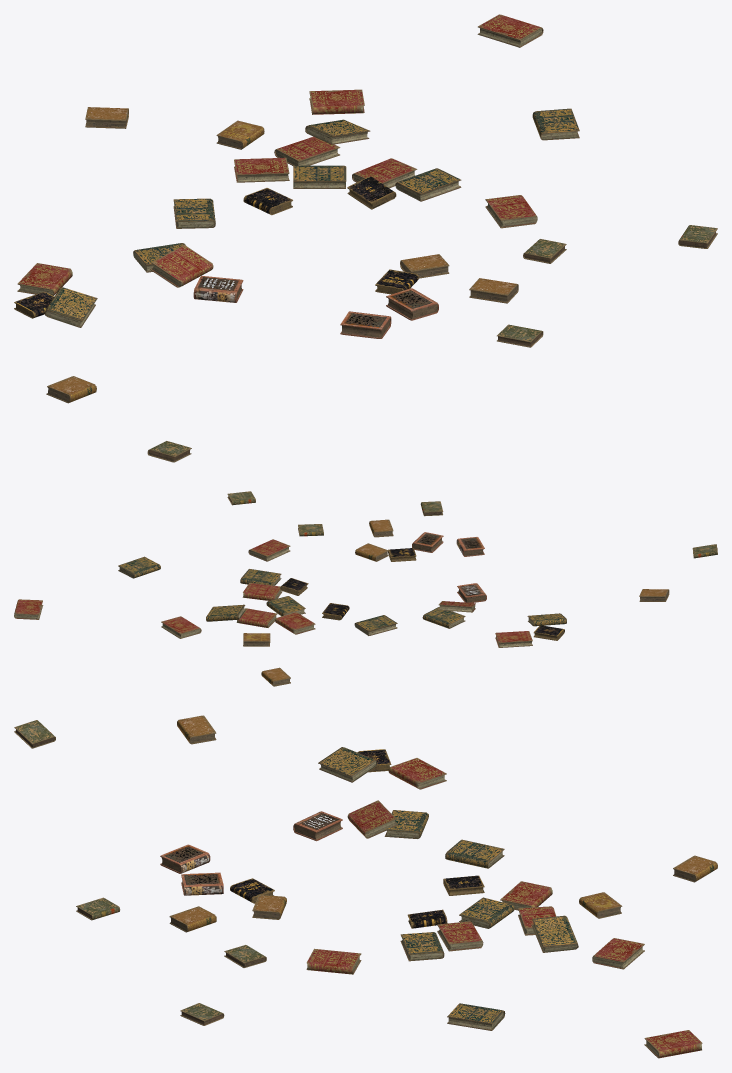
File: sm39_118_bookfloor01a.fbx
3 views of the same model, one above another, from view 1: azimuth 30°, elevation 25°; view 2: azimuth 150°, elevation 25°; view 3: azimuth 270°, elevation 25° (orthographic). The views are drawn at different scales.
Visible parts, largest first — view 1: LOD_1_Group_0_Sub_1__sm36_001_BookSet01A_A_Mat; view 2: LOD_1_Group_0_Sub_1__sm36_001_BookSet01A_A_Mat; view 3: LOD_1_Group_0_Sub_1__sm36_001_BookSet01A_A_Mat.
Boxes of the visible parts, bbox=[...] form: LOD_1_Group_0_Sub_1__sm36_001_BookSet01A_A_Mat: bbox=[14, 14, 717, 462]; LOD_1_Group_0_Sub_1__sm36_001_BookSet01A_A_Mat: bbox=[14, 491, 717, 686]; LOD_1_Group_0_Sub_1__sm36_001_BookSet01A_A_Mat: bbox=[14, 715, 717, 1058].
Bounding box in the file's own units: 4.64 × 0.1032 × 4.14.
